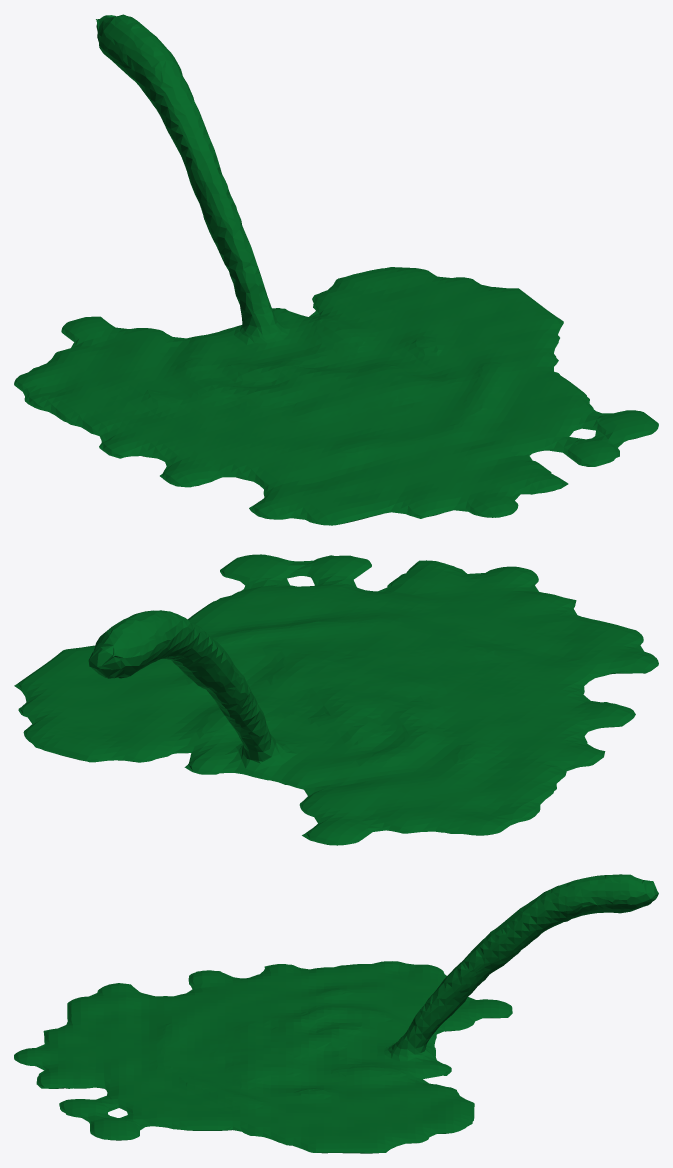
Rendered from fluid_14.fbx.
The picture shows the model from 3 angles, top to bottom: view 1: azimuth 30°, elevation 25°; view 2: azimuth 150°, elevation 25°; view 3: azimuth 270°, elevation 25°; orthographic projection. The views are drawn at different scales.
Visible parts, largest first — view 1: Cube; view 2: Cube; view 3: Cube.
Part boxes in pixels (x1,y1,x2,y2): Cube: (14,14,658,525); Cube: (14,554,658,845); Cube: (14,874,658,1153).
Size of the model in its own units: 391 by 176 by 556.
